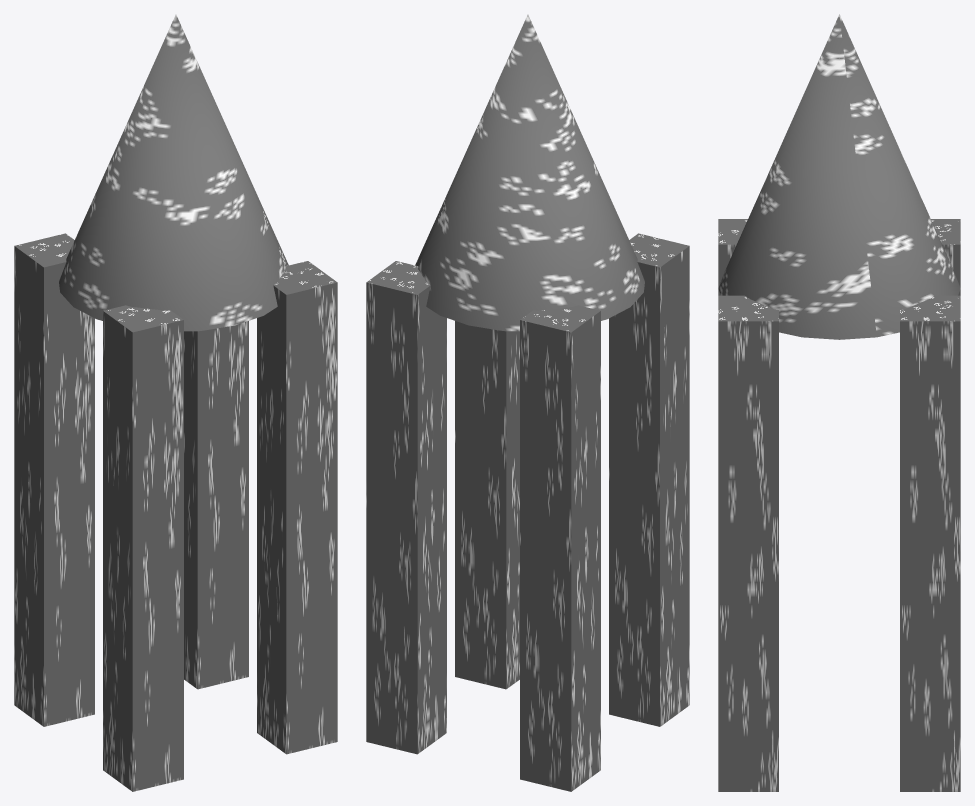
File: BaseTower.fbx
3 views of the same model, side by side, from view 1: azimuth 30°, elevation 25°; view 2: azimuth 150°, elevation 25°; view 3: azimuth 270°, elevation 25° (orthographic). The views are drawn at different scales.
Visible parts, largest first — view 1: pCone1, pasted__pCube1, pCube1, pasted__pCube1_ncl1_1, pasted__pCube1_ncl1_2; view 2: pCone1, pasted__pCube1_ncl1_1, pasted__pCube1_ncl1_2, pasted__pCube1, pCube1; view 3: pCone1, pCube1, pasted__pCube1_ncl1_2, pasted__pCube1, pasted__pCube1_ncl1_1.
Part boxes in pixels (box(x1,y1,x2,y2)): pCone1: box(59, 14, 288, 331); pasted__pCube1: box(103, 305, 183, 791); pCube1: box(257, 261, 337, 754); pasted__pCube1_ncl1_1: box(14, 233, 94, 726); pasted__pCube1_ncl1_2: box(184, 321, 248, 689); pCone1: box(415, 14, 644, 331); pasted__pCube1_ncl1_1: box(520, 305, 600, 791); pasted__pCube1_ncl1_2: box(366, 261, 446, 754); pasted__pCube1: box(609, 233, 689, 726); pCube1: box(455, 321, 519, 689); pCone1: box(718, 14, 960, 339); pCube1: box(718, 295, 778, 791); pasted__pCube1_ncl1_2: box(900, 295, 960, 791); pasted__pCube1: box(718, 219, 747, 295); pasted__pCube1_ncl1_1: box(931, 219, 960, 295).
Bounding box in the file's own units: 8 × 26.46 × 8.
1 material, 1 textured.
